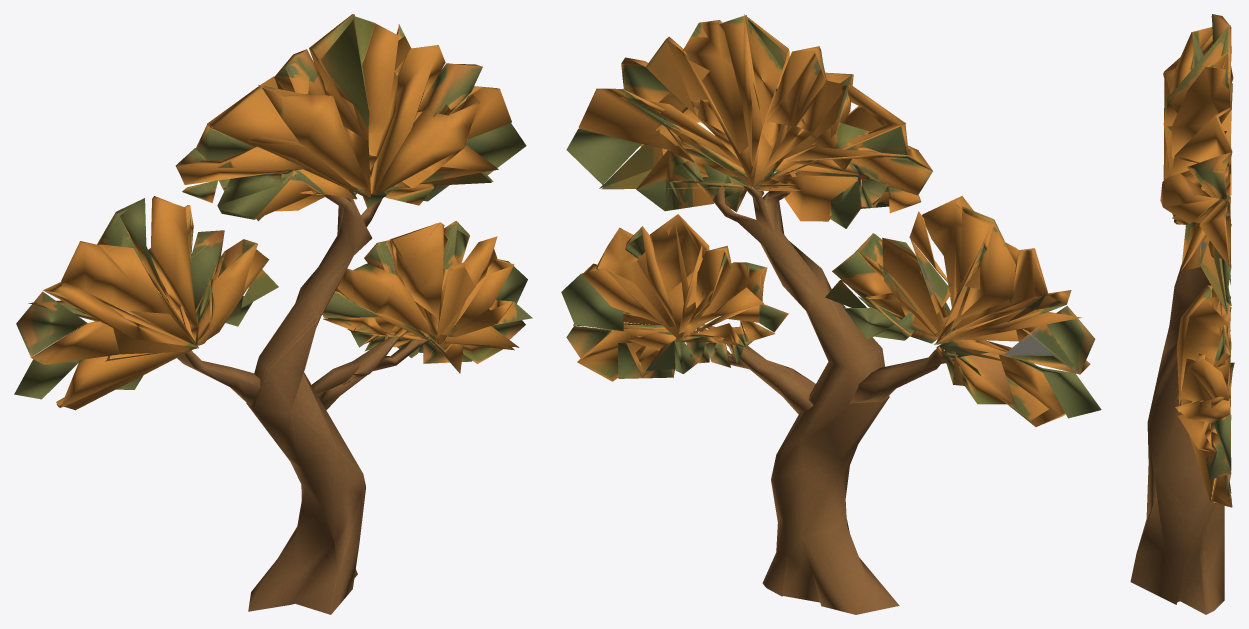
The model's file is AW-TREE-003-v0.2.glb.
The picture shows the model from 3 angles, left to right: view 1: azimuth 30°, elevation 25°; view 2: azimuth 150°, elevation 25°; view 3: azimuth 270°, elevation 25°; orthographic projection. The views are drawn at different scales.
Visible parts, largest first — view 1: AW-TREE-003_meter_ground_pivot; view 2: AW-TREE-003_meter_ground_pivot; view 3: AW-TREE-003_meter_ground_pivot.
Boxes of the visible parts, bbox=[...] form: AW-TREE-003_meter_ground_pivot: bbox=[14, 14, 532, 614]; AW-TREE-003_meter_ground_pivot: bbox=[561, 14, 1101, 614]; AW-TREE-003_meter_ground_pivot: bbox=[1130, 14, 1234, 614].
Bounding box in the file's own units: 3.92 × 4 × 0.6359.
Materials: 1 (1 with a texture image).
